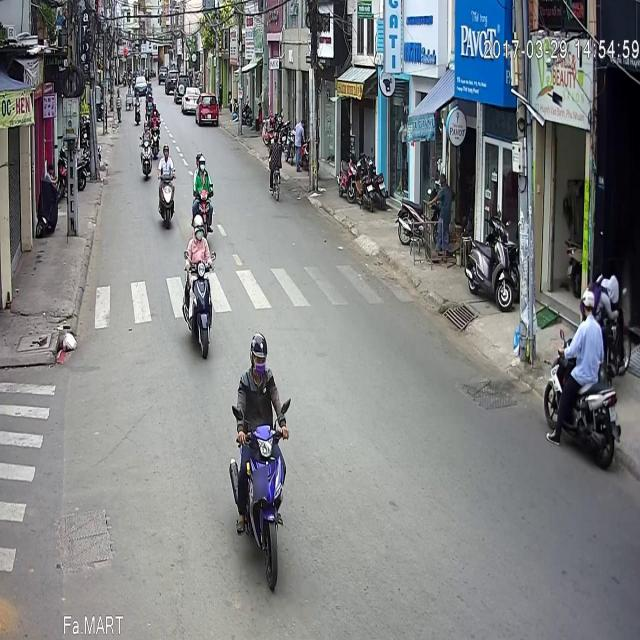bicycle: (268, 74, 282, 142)
car: (195, 34, 217, 68)
motorcycle: (228, 274, 292, 532), (543, 231, 621, 412), (182, 156, 216, 302), (192, 94, 214, 180), (157, 84, 175, 170), (139, 62, 153, 122), (150, 52, 160, 100)
